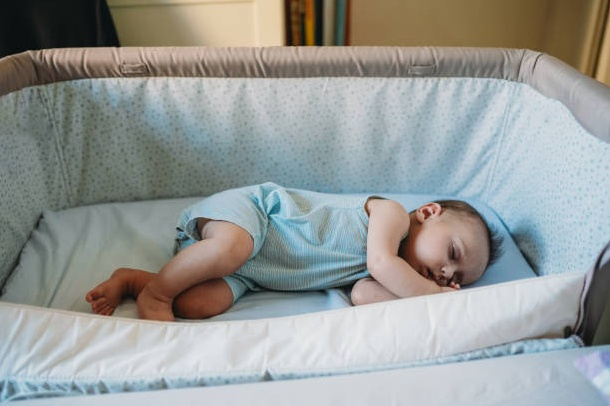baby: (86, 183, 499, 319)
crib: (0, 47, 609, 399)
